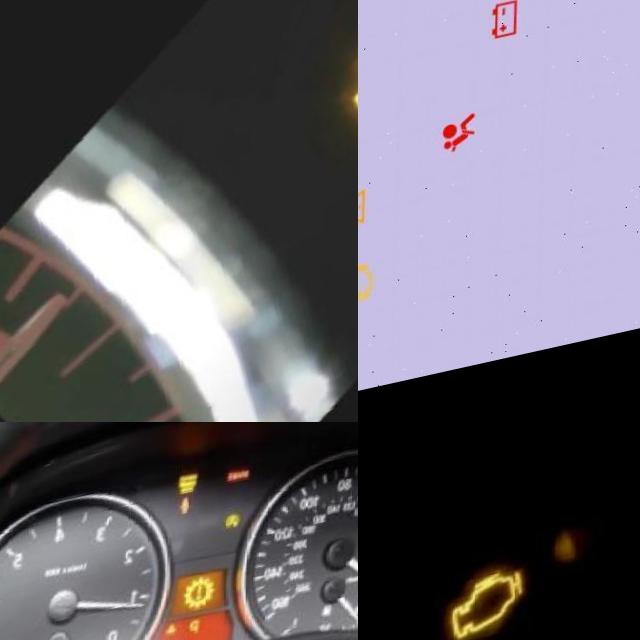Low fuel level: (320, 622, 332, 638)
